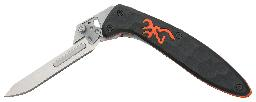scalpel: (4, 5, 124, 97)
